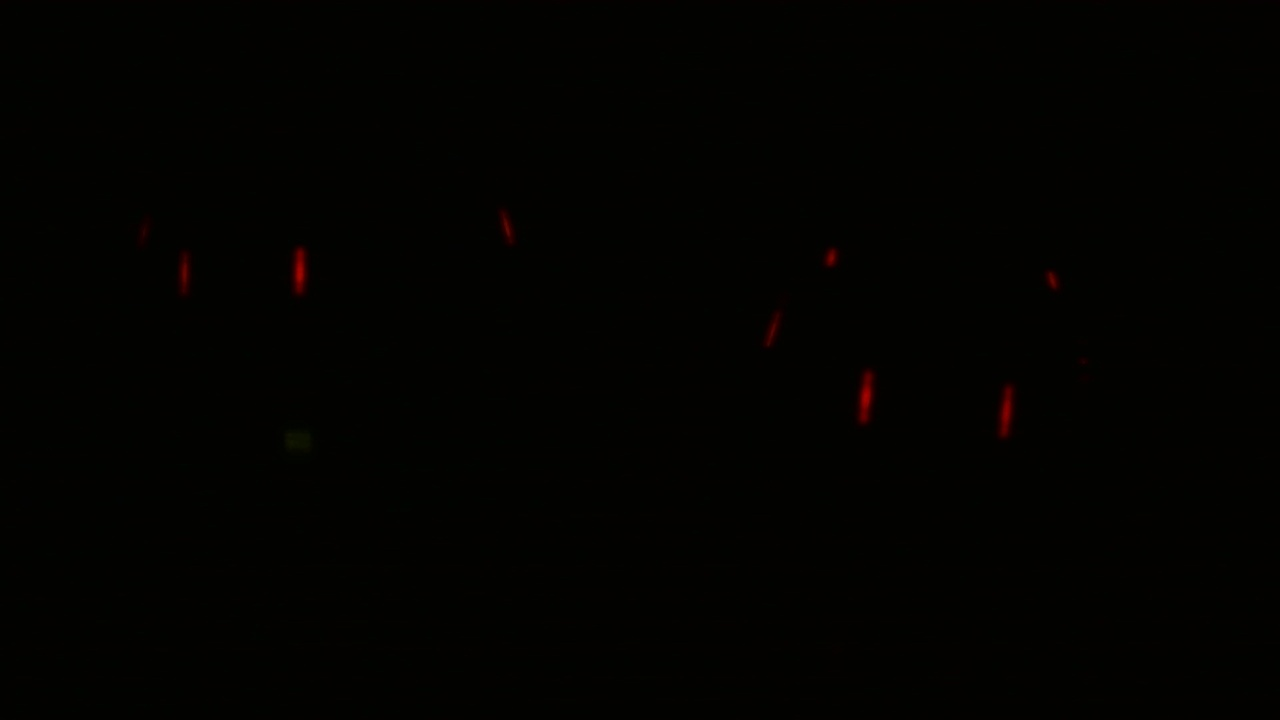pair1: (857, 364, 1011, 448), (169, 238, 311, 302)
